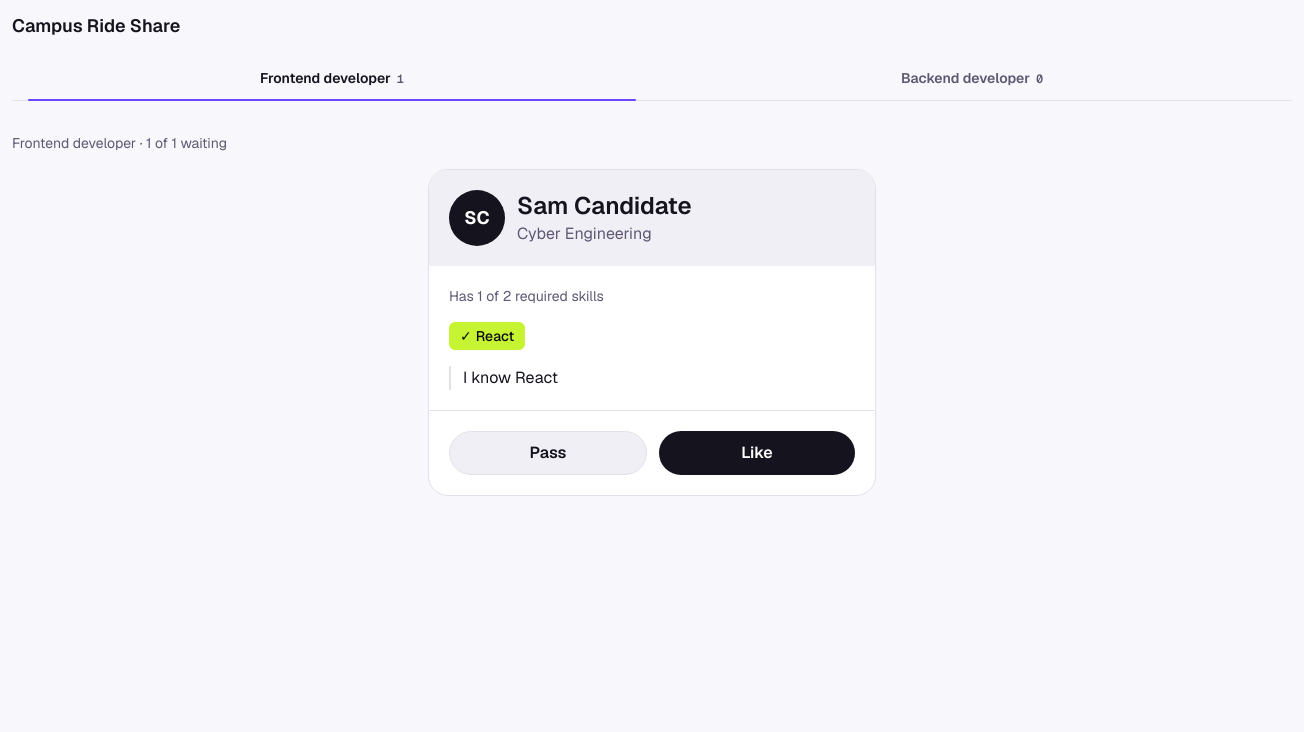
shows the API's message when the application was already decided
Step 1. Click the button with aria-label "Like Sam Candidate" → (757, 453), box [659, 431, 855, 475]
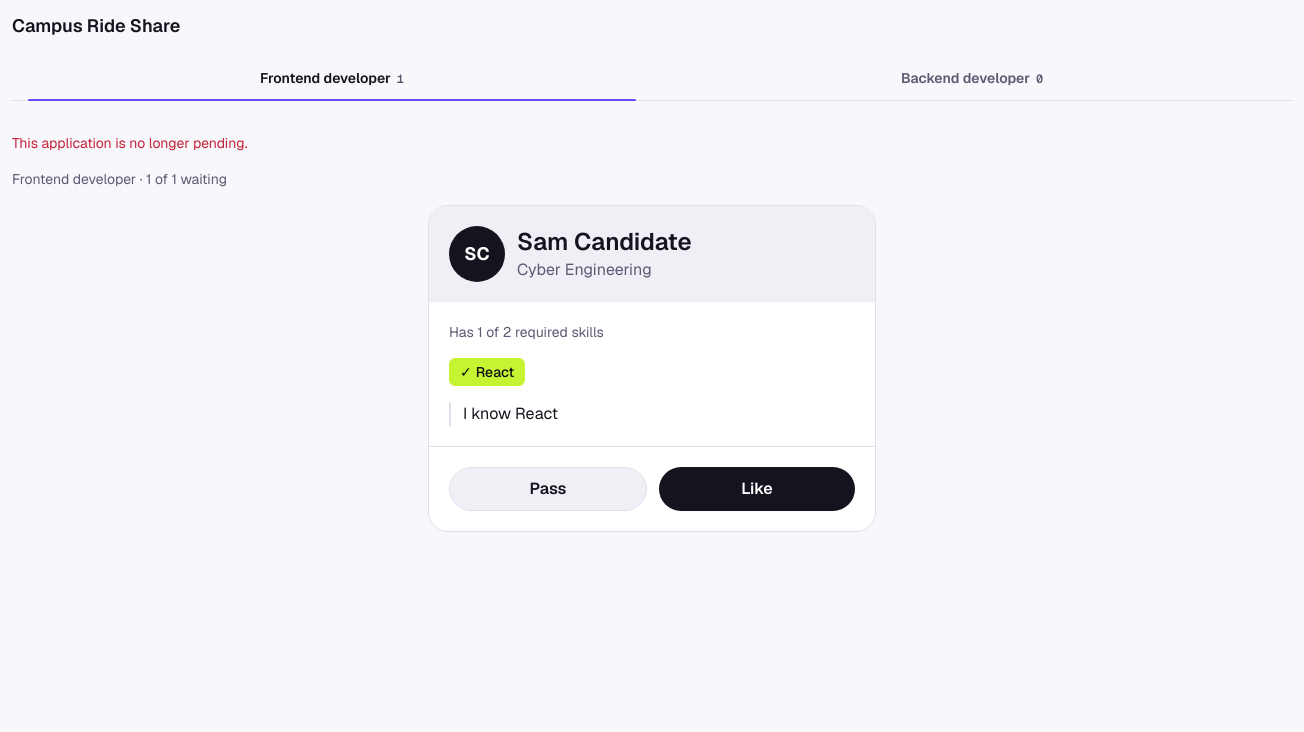
Expected: the message reads "This application is no longer pending.", [12, 134, 248, 152]
